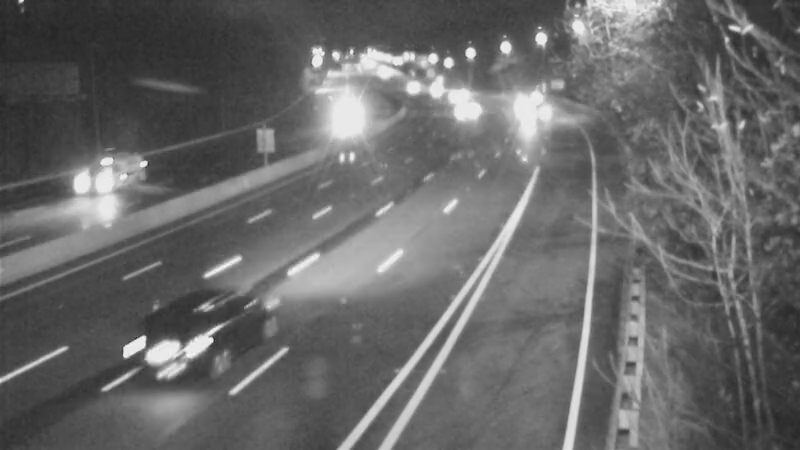vehicle: (119, 294, 229, 404), (55, 139, 135, 219), (405, 65, 455, 115), (376, 61, 426, 111), (430, 72, 480, 122), (504, 82, 554, 132), (449, 82, 499, 132), (318, 96, 368, 146)
